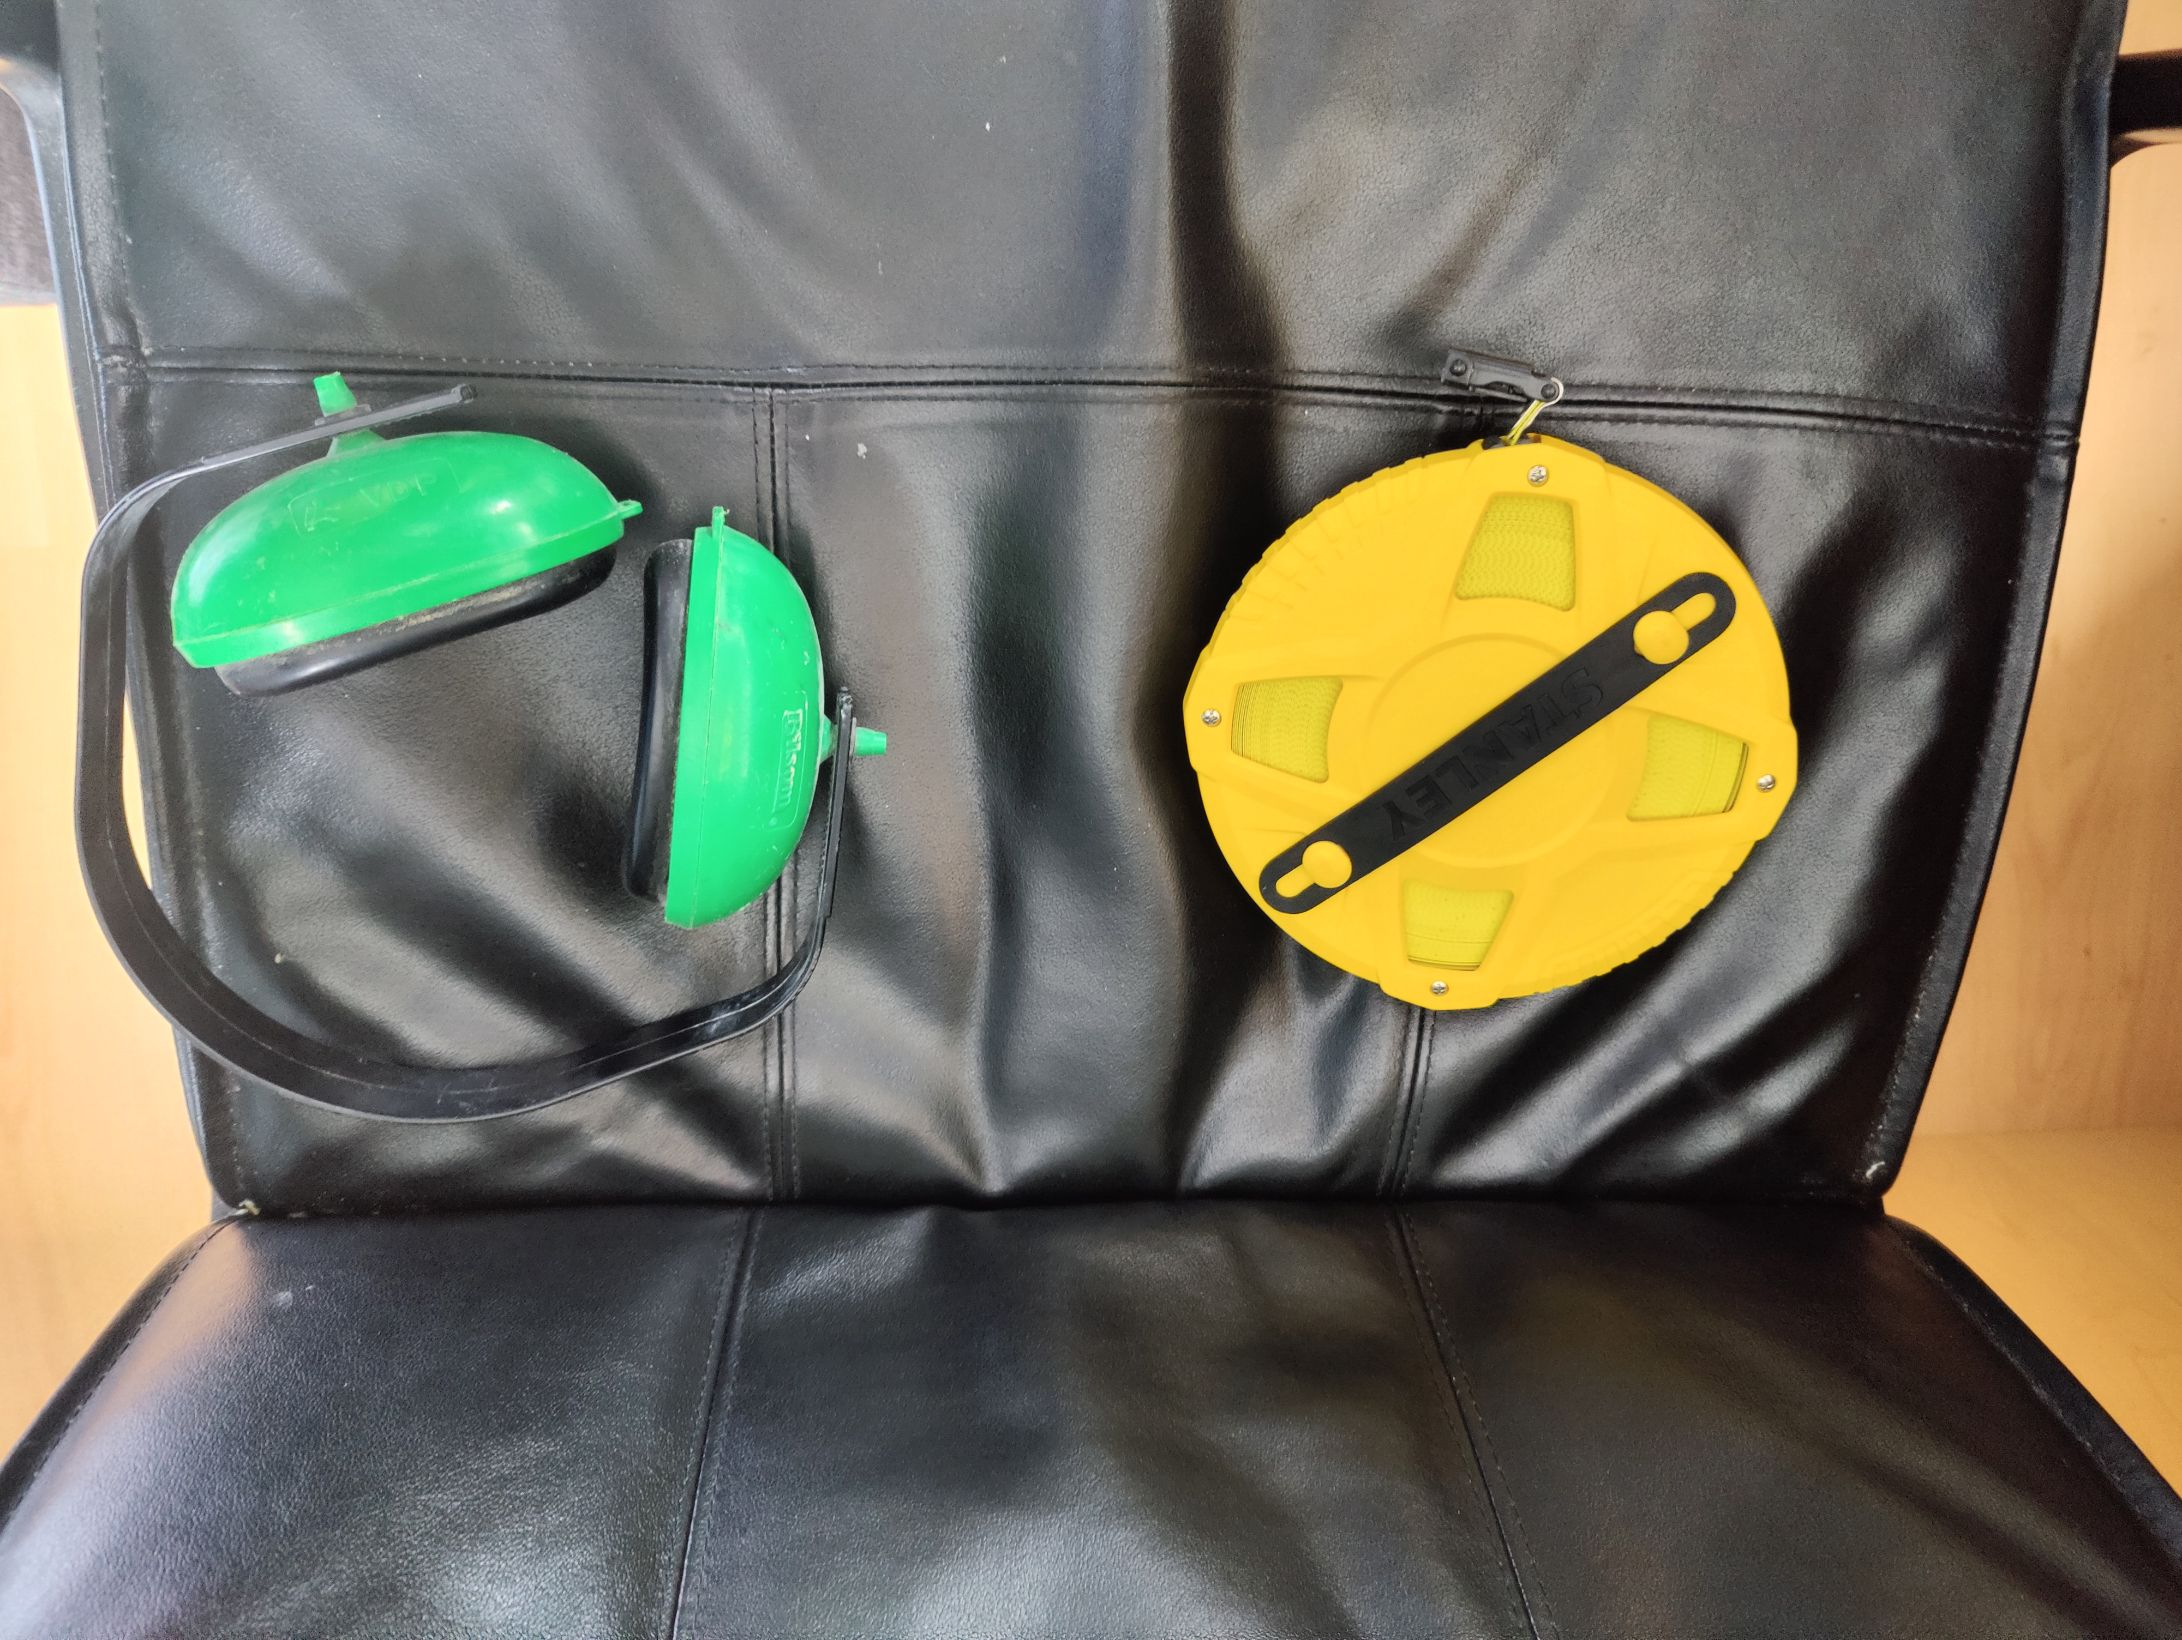headphones: (71, 370, 885, 1134)
tapemeasure: (1185, 350, 1807, 1003)
